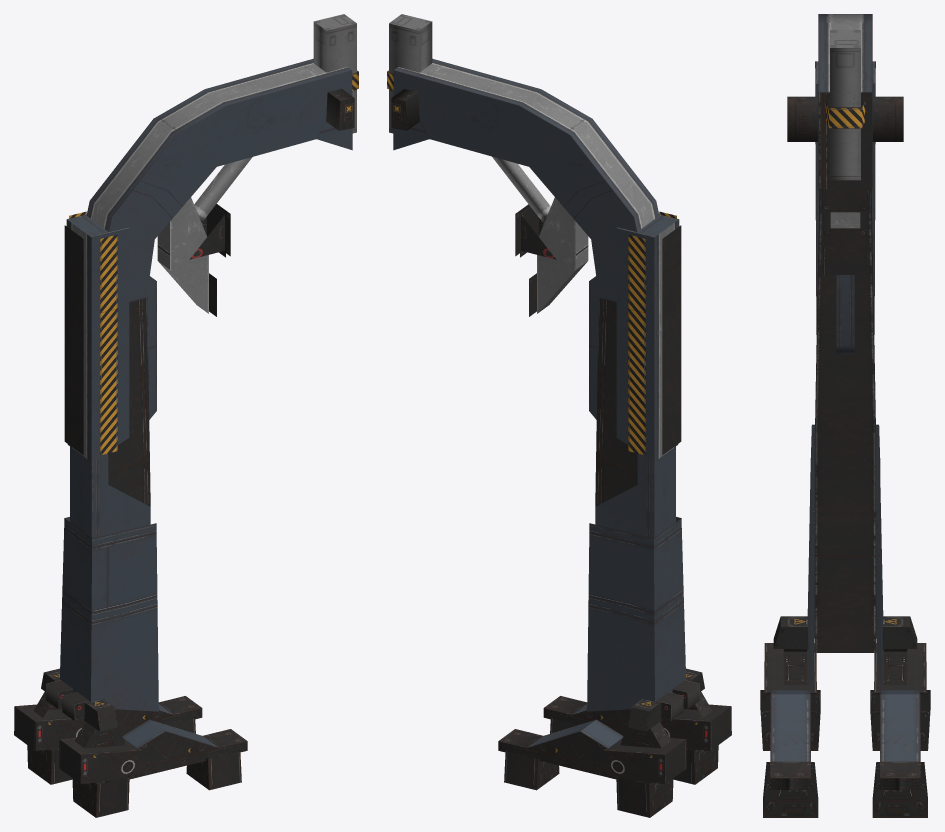
File: Crane_2_L4.fbx
The picture shows the model from 3 angles, left to right: view 1: azimuth 30°, elevation 25°; view 2: azimuth 150°, elevation 25°; view 3: azimuth 270°, elevation 25°; orthographic projection. The views are drawn at different scales.
Parts seen in each view (by area): view 1: Crane_2_L4; view 2: Crane_2_L4; view 3: Crane_2_L4.
Part boxes in pixels (x1=…): Crane_2_L4: x1=14, y1=14, x2=358, y2=817; Crane_2_L4: x1=387, y1=14, x2=731, y2=817; Crane_2_L4: x1=760, y1=14, x2=930, y2=817.
Bounding box in the file's own units: 378 × 834 × 150.
